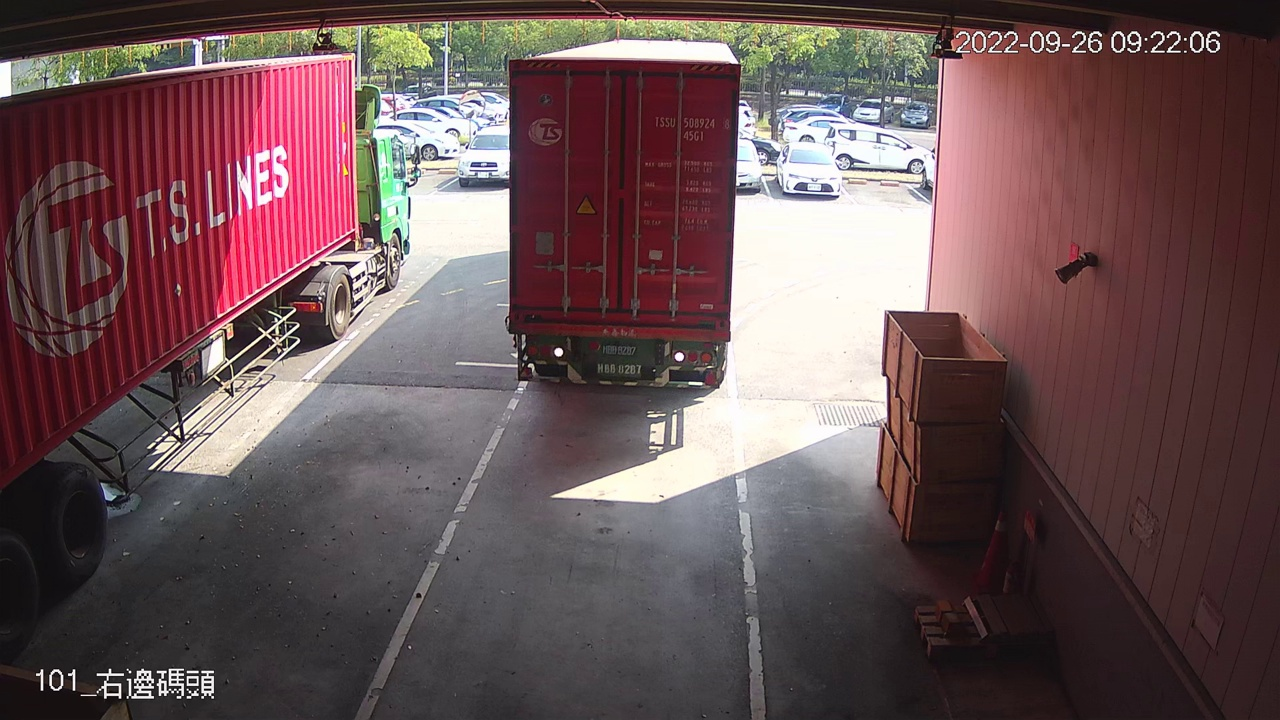container: (649, 111, 732, 145)
